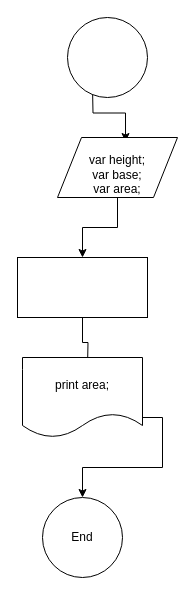
This 195x595 diagram has some shape labels left out. The centre of each missing label's shape, as x and y in pixels:
area=(height*base)/2: point (82, 287)
start: point (107, 57)
